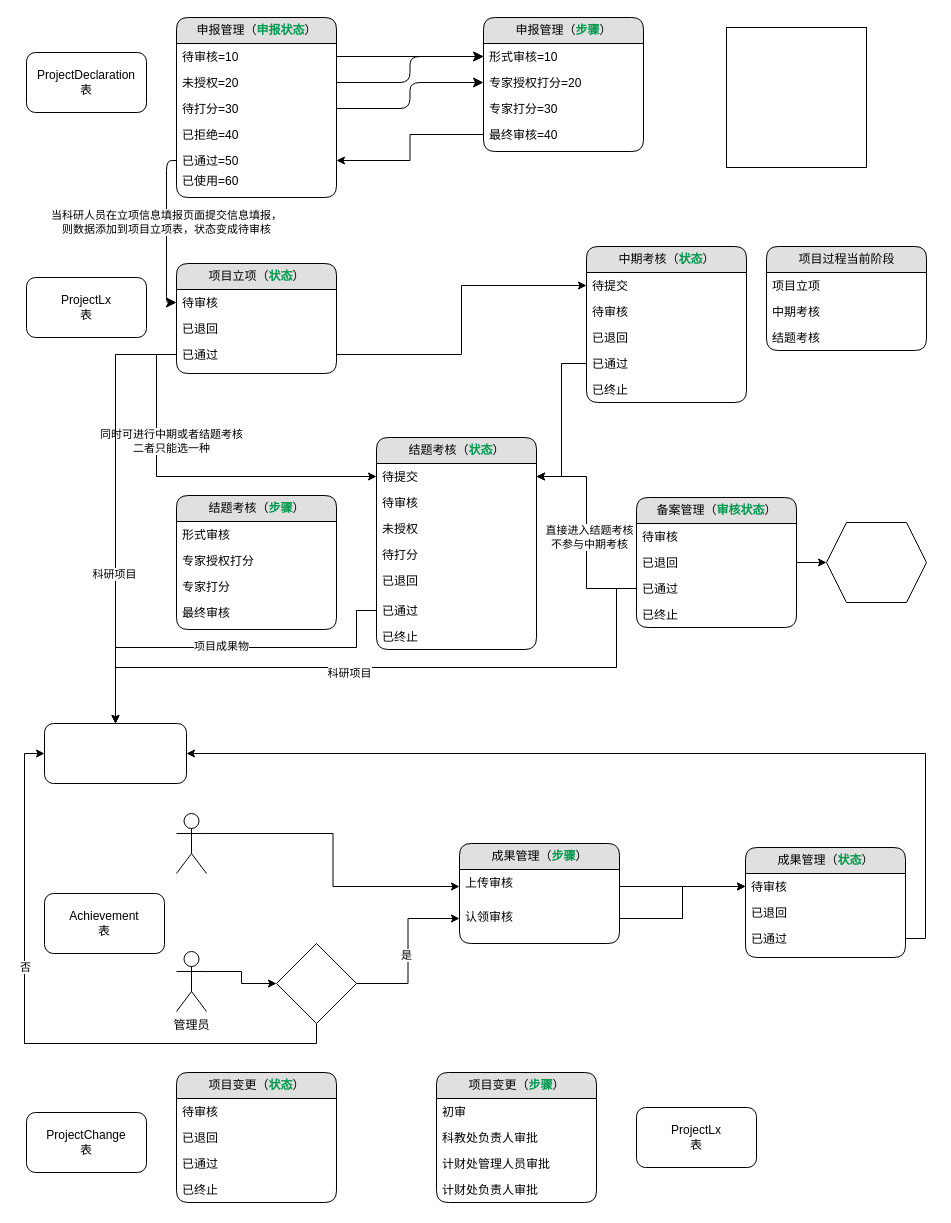
The diagram is 951 pixels wide and 1223 high, and some of its shapes have lost their labels. The shapes that lost their labels are listed below. From the top down, each one's centre as x and y in pixels, then its label:
At point 796,97: "立项审核通过 中期 结题 备案通过的都可变更，变更就意味着可以终止，所以，相应的也都有已终止的状态".
At point 876,562: "SysProjectType 字段值为： Filing".
At point 115,753: "UserAchievement 表 （成果统计）".
At point 191,843: "科研人员".
At point 316,983: "成果负责人是否重名".
